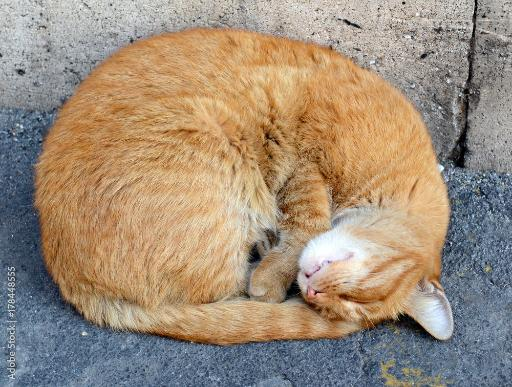cat_sleeping: (35, 29, 453, 344)
